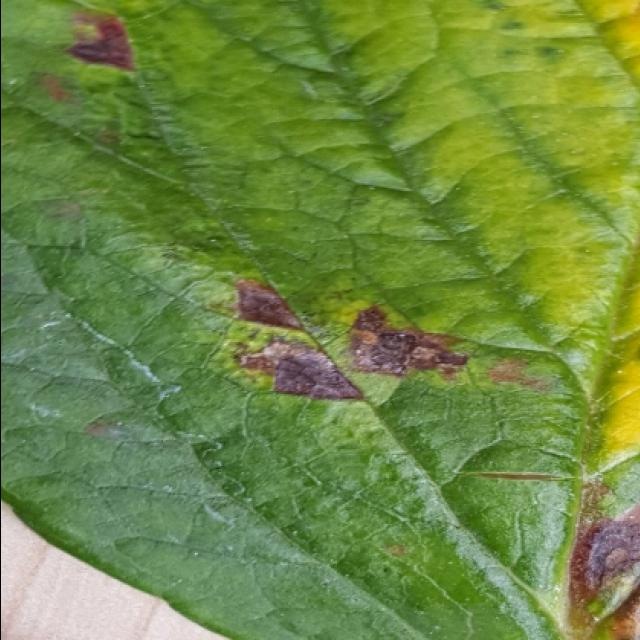Angular Leafspot: (25, 2, 640, 640)
